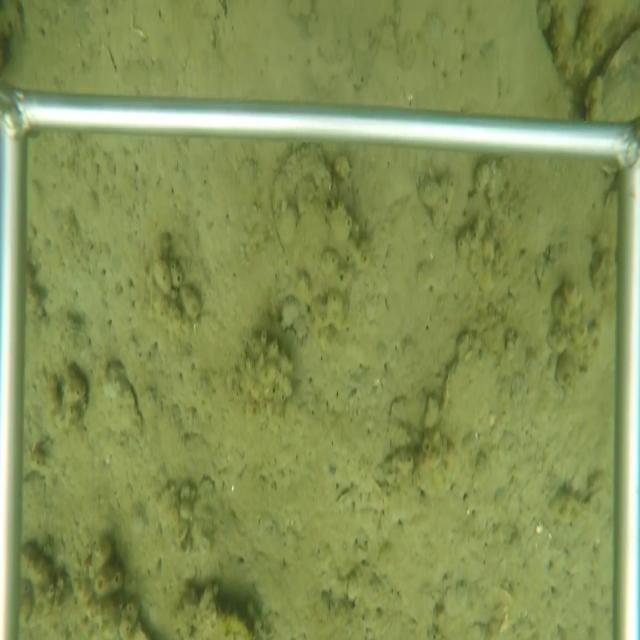Oyster-Closed: (416, 328, 509, 502), (573, 480, 608, 515)
Oyster-Indeterminate: (267, 140, 353, 353), (102, 359, 145, 444)
